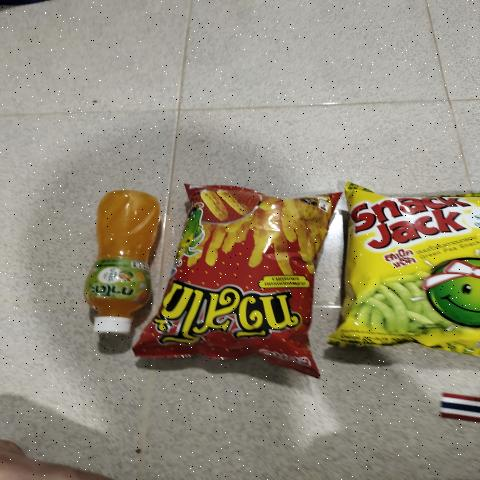snack_jack: (347, 191, 480, 343)
twisco: (172, 181, 322, 361)
